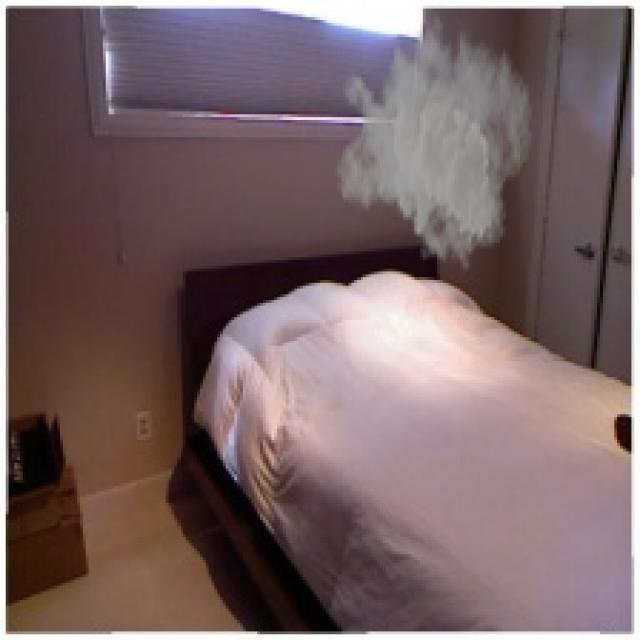Smoke: (334, 2, 534, 274)
